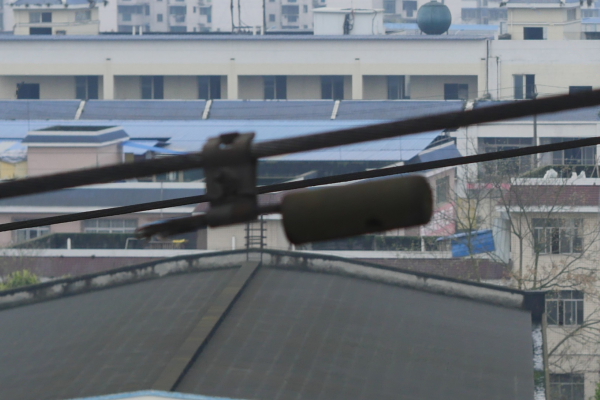damper_defect: (121, 127, 437, 249)
